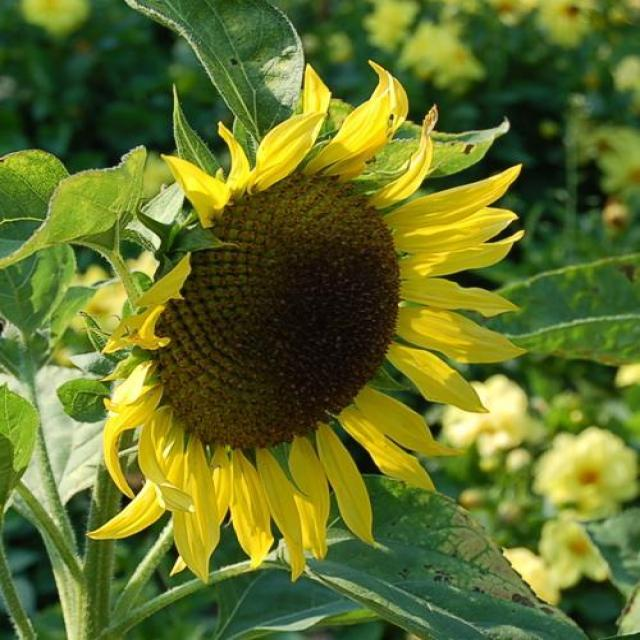sunflower: (92, 57, 533, 589)
